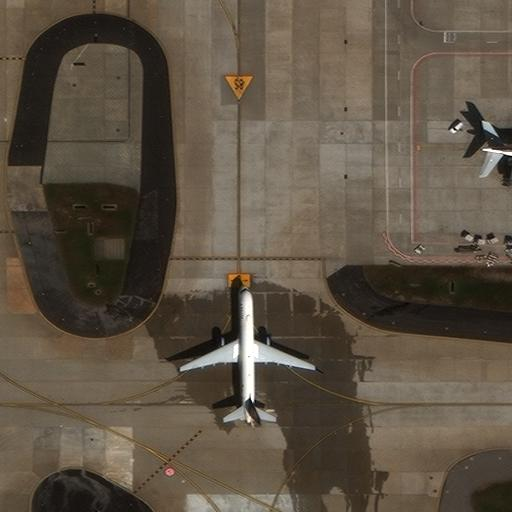Large Civil Transport: (179, 285, 315, 424)
